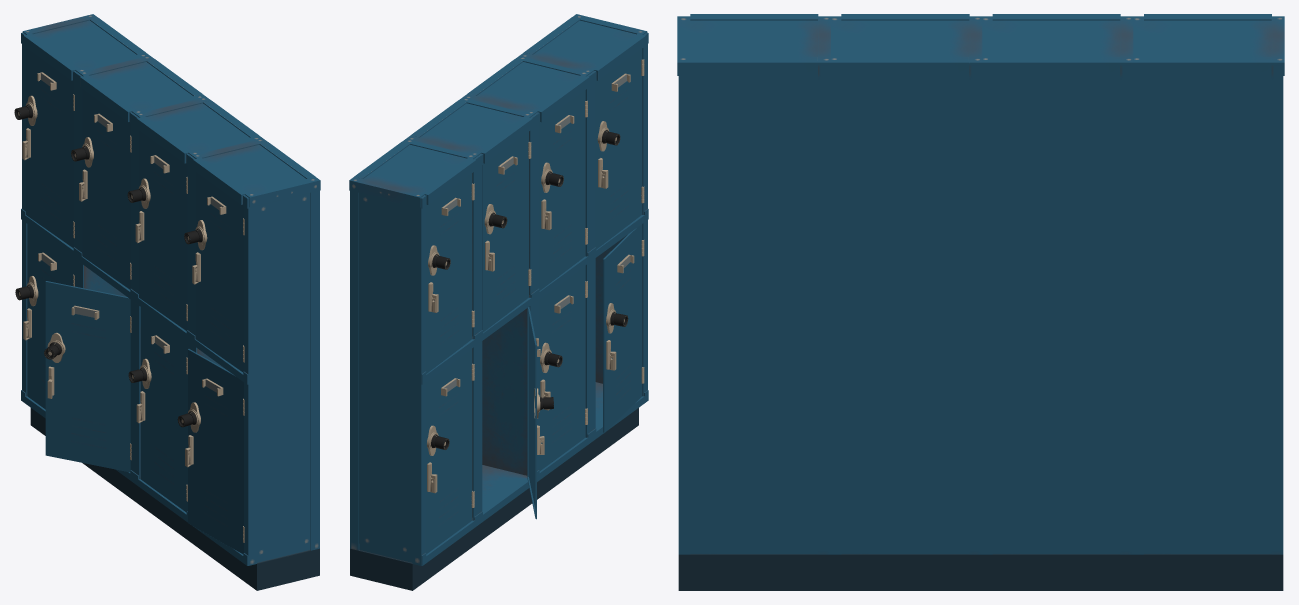
Rendered from school_locker_row.glb.
3 renders of one model, left to right at view 1: azimuth 30°, elevation 25°; view 2: azimuth 150°, elevation 25°; view 3: azimuth 270°, elevation 25°, orthographic. The views are drawn at different scales.
Parts seen in each view (by area): view 1: Cube.109, Cylinder.022, Cylinder.036, Cylinder.017, Cylinder.029, Cylinder.005, Cube.092, Cube.111, Cube.100, Cylinder.018, Cube.101, Cube.098 (+33 smaller); view 2: Cube.033, Cylinder.018, Cylinder.017, Cylinder.029, Cylinder.005, Cube.111, Cube.092, Cylinder.036, Cube.071, Cube.024, Cube.027, Cube.023 (+34 smaller); view 3: Cube.091, Cube.072, Cube.035, Cube.110, Cube.027, Cube.101, Cube.064, Cube.026, Cube.063, Cube.082, Cube.083, Cube.102 (+20 smaller).
Boxes of the visible parts, x1,y1,x2,y2 form: Cube.109: (257, 193, 310, 556); Cylinder.022: (44, 281, 131, 471); Cylinder.036: (177, 349, 244, 553); Cylinder.017: (71, 89, 131, 289); Cylinder.029: (128, 307, 187, 512); Cylinder.005: (14, 48, 74, 248); Cube.092: (139, 130, 187, 330); Cube.111: (196, 172, 243, 372); Cube.100: (244, 195, 256, 565); Cylinder.018: (15, 224, 74, 409); Cube.101: (310, 190, 319, 550); Cube.098: (200, 532, 319, 590); Cube.033: (359, 193, 412, 556); Cylinder.018: (426, 348, 474, 553); Cylinder.017: (482, 132, 531, 332); Cylinder.029: (539, 265, 587, 470); Cylinder.005: (426, 173, 474, 373); Cube.111: (595, 49, 642, 249); Cube.092: (539, 90, 585, 290); Cylinder.036: (603, 224, 644, 433); Cube.071: (482, 131, 529, 475); Cube.024: (412, 195, 425, 565); Cube.027: (350, 190, 359, 550); Cube.023: (350, 532, 469, 590); Cube.091: (841, 72, 969, 545); Cube.072: (992, 76, 1120, 545); Cube.035: (1144, 76, 1271, 545); Cube.110: (690, 76, 817, 545); Cube.027: (1271, 65, 1283, 554); Cube.101: (678, 65, 690, 554); Cube.064: (1120, 65, 1132, 554); Cube.026: (1132, 65, 1143, 554); Cube.063: (981, 65, 992, 554); Cube.082: (830, 65, 841, 554); Cube.083: (969, 65, 980, 554); Cube.102: (818, 65, 829, 554).
Size of the model in its own units: 1.01 by 3.01 by 3.13.
1 material, 1 textured.
